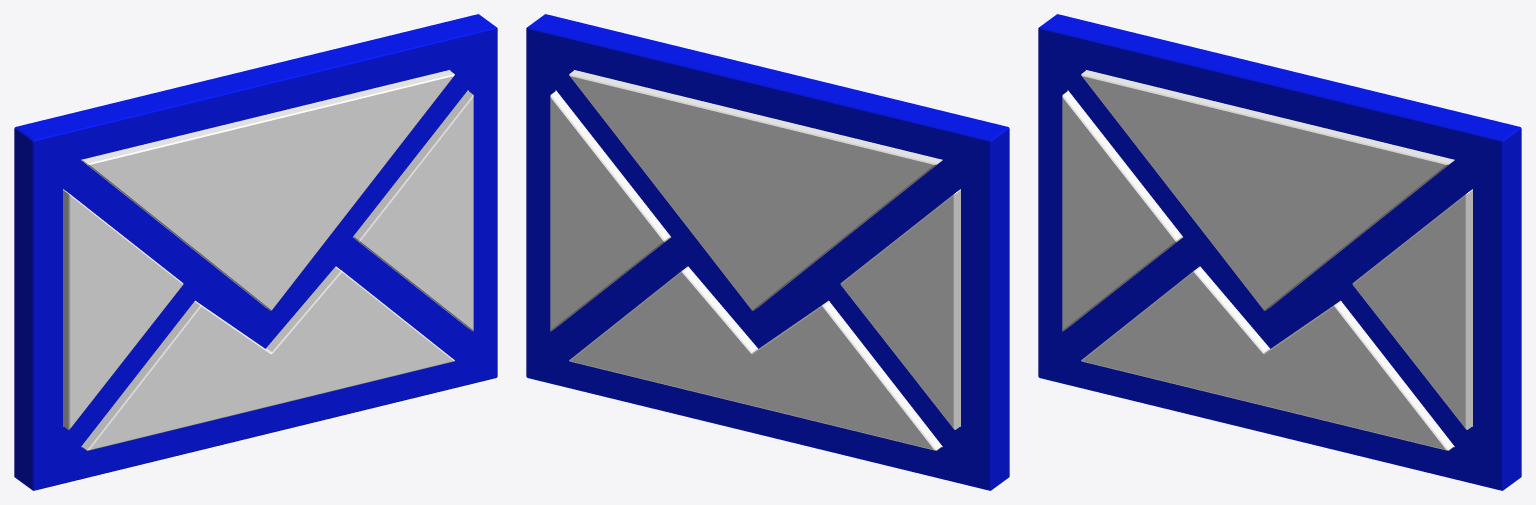
Rendered from Mail.gltf.
3 renders of one model, left to right at view 1: azimuth 30°, elevation 25°; view 2: azimuth 150°, elevation 25°; view 3: azimuth 330°, elevation 25°, orthographic.
Visible parts, largest first — view 1: Envelope_Icon_n3d2, Envelope_Icon_n3d; view 2: Envelope_Icon_n3d, Envelope_Icon_n3d2; view 3: Envelope_Icon_n3d2, Envelope_Icon_n3d.
Boxes of the visible parts, x1,y1,x2,y2 form: Envelope_Icon_n3d2: (21, 19, 497, 490); Envelope_Icon_n3d: (14, 14, 486, 484); Envelope_Icon_n3d: (526, 19, 1002, 490); Envelope_Icon_n3d2: (535, 14, 1009, 481); Envelope_Icon_n3d2: (1038, 19, 1514, 490); Envelope_Icon_n3d: (1047, 14, 1521, 484).
Size of the model in its own units: 0.215 by 0.155 by 0.0253.
Materials: 1 (1 with a texture image).
